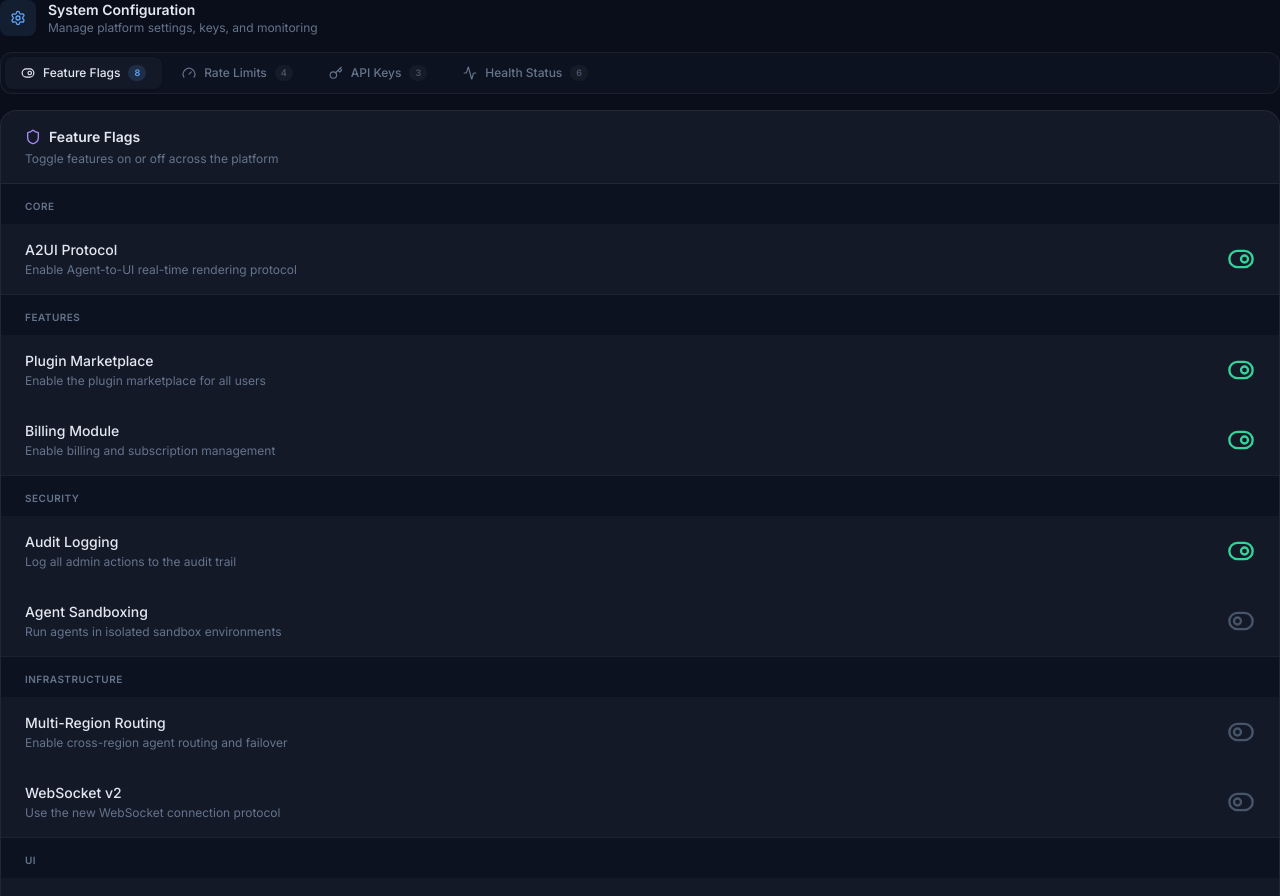
SystemConfig › rate limit input changes persist across tab switches
The width and height of the screenshot is (1280, 896).
// Go to Rate Limits tab
Click the button "Rate Limits 4" at (238, 73), box [166,57,309,89]
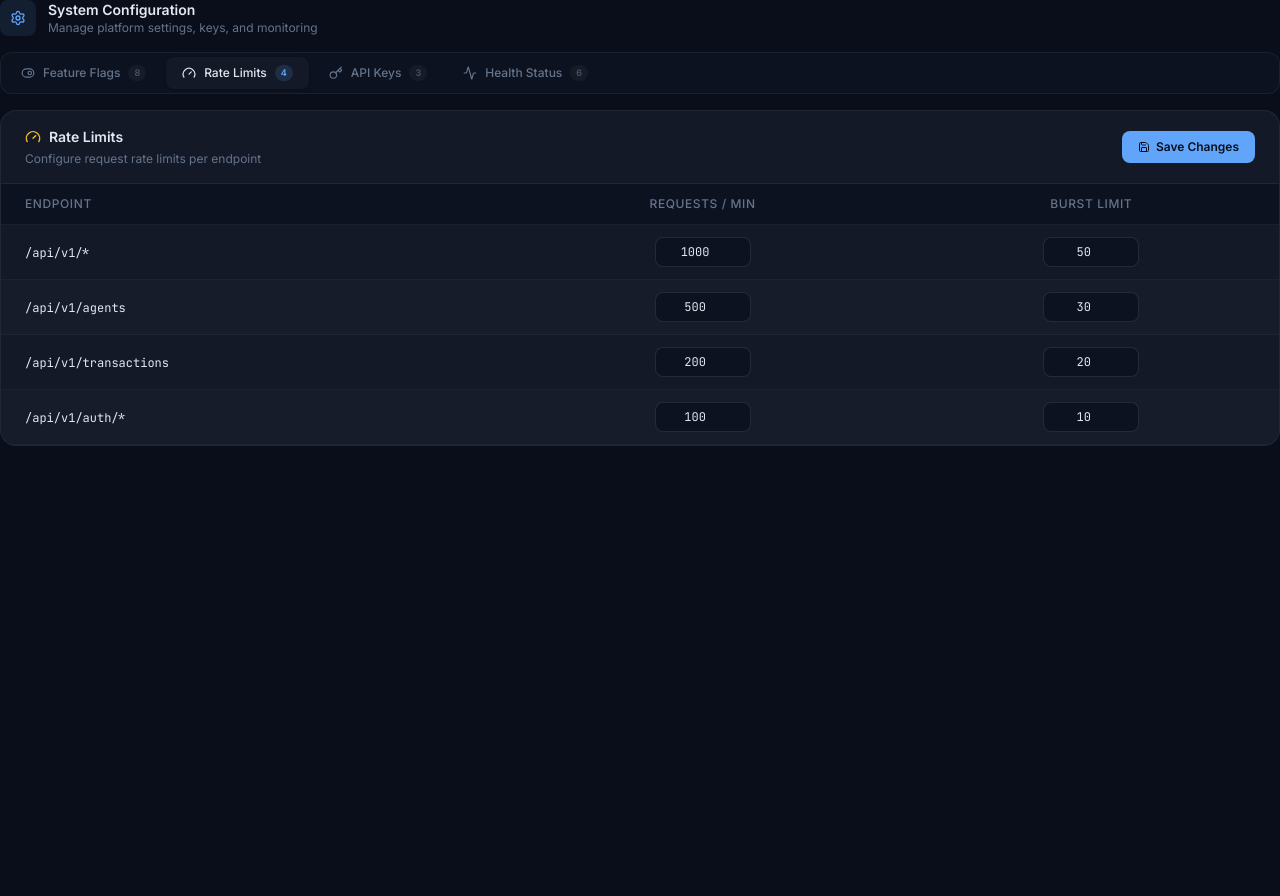
Replace the text in the 1st number field with "5000" at (703, 252), box [655,237,751,267]
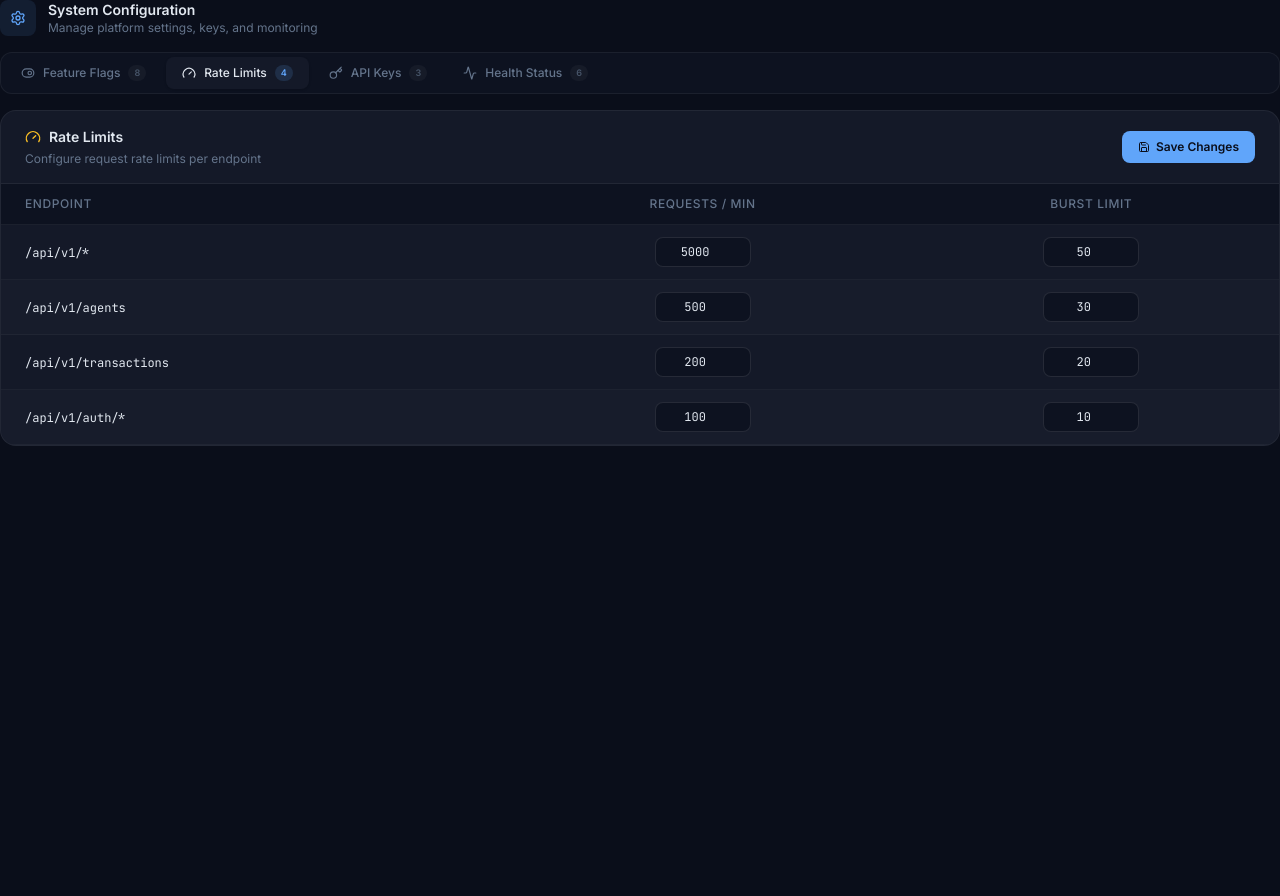
// Switch away to Feature Flags
Click the button "Feature Flags 8" at (84, 73), box [5,57,162,89]
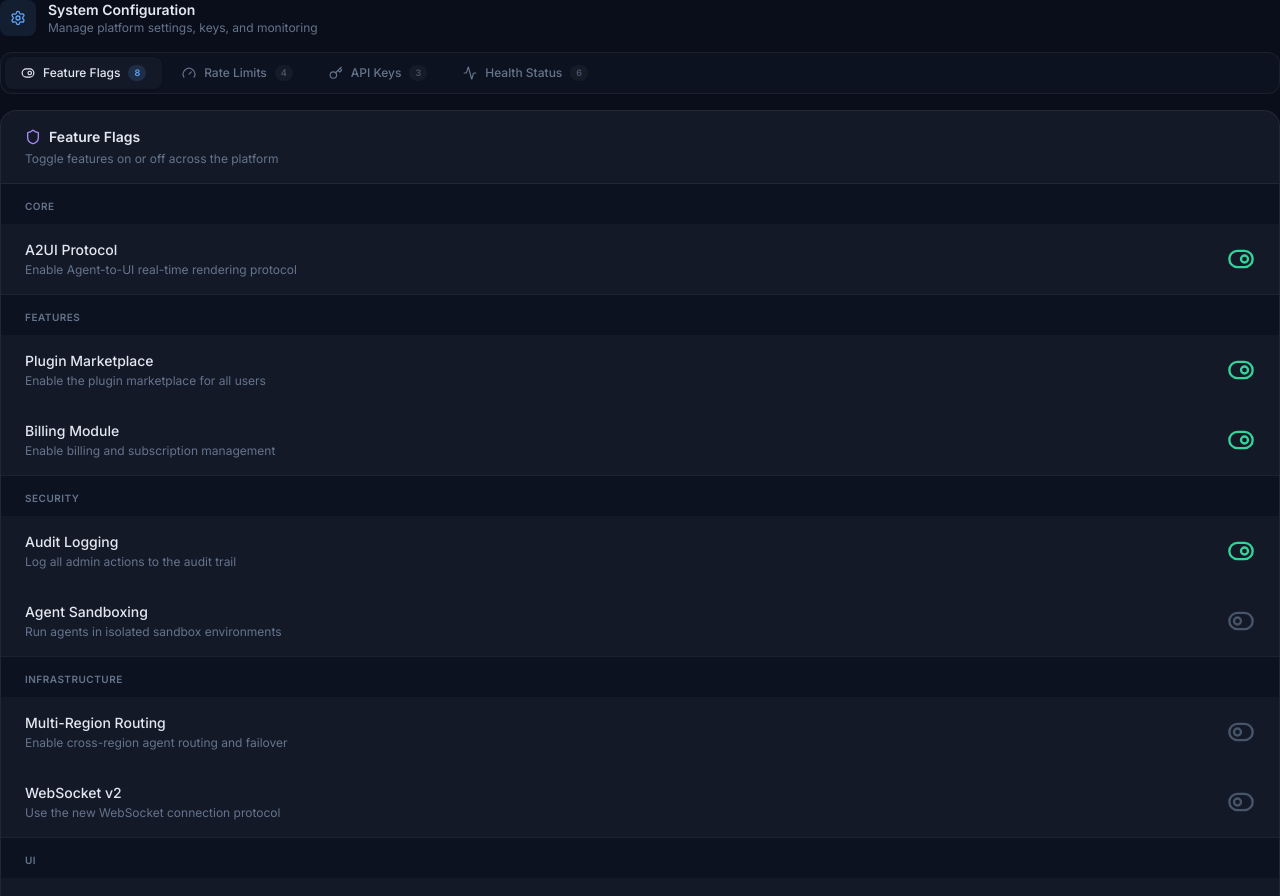
Now the text "A2UI Protocol" is shown, box [25,241,117,258]
// Switch back to Rate Limits
Click the button "Rate Limits 4" at (238, 73), box [166,57,309,89]
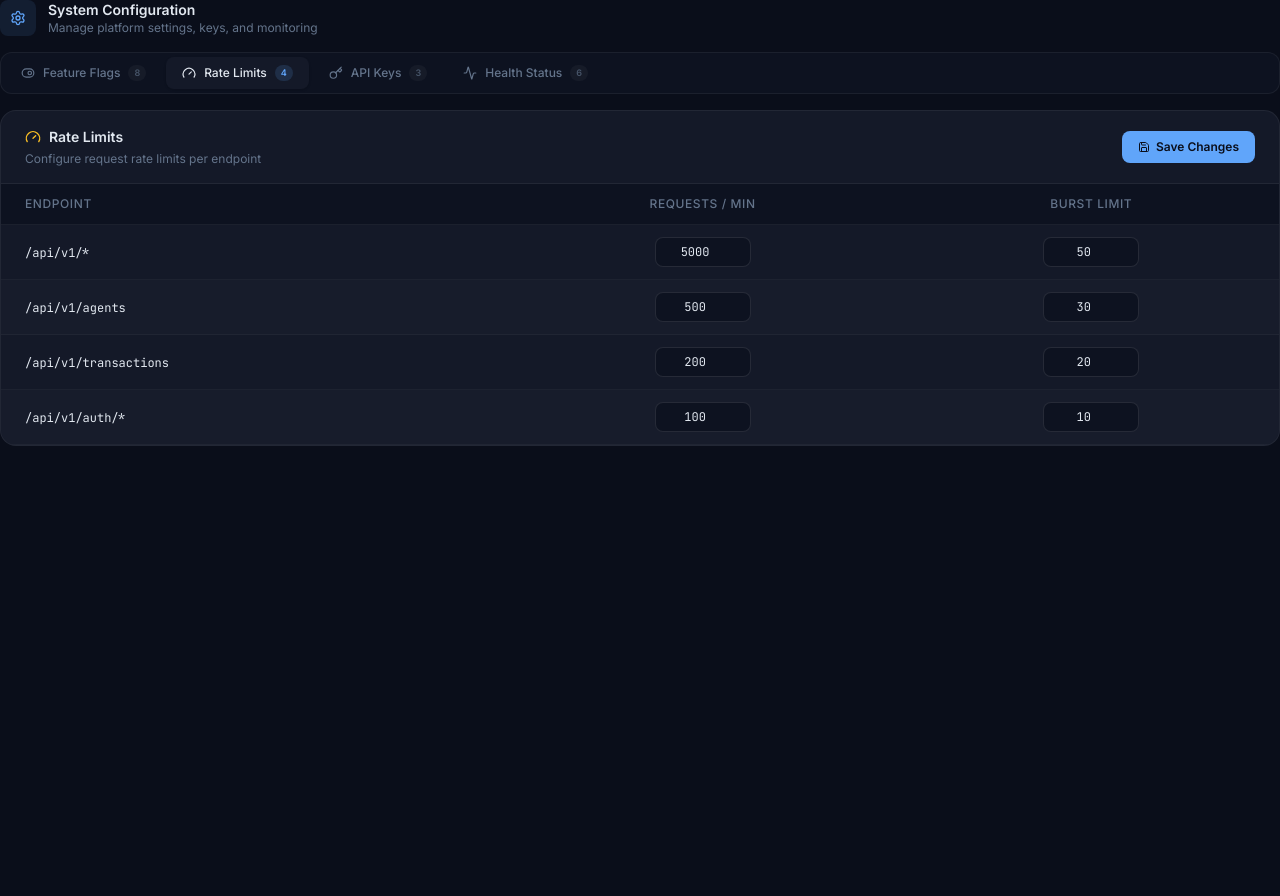
Now the 1st number field holds "5000", box [655,237,751,267]
